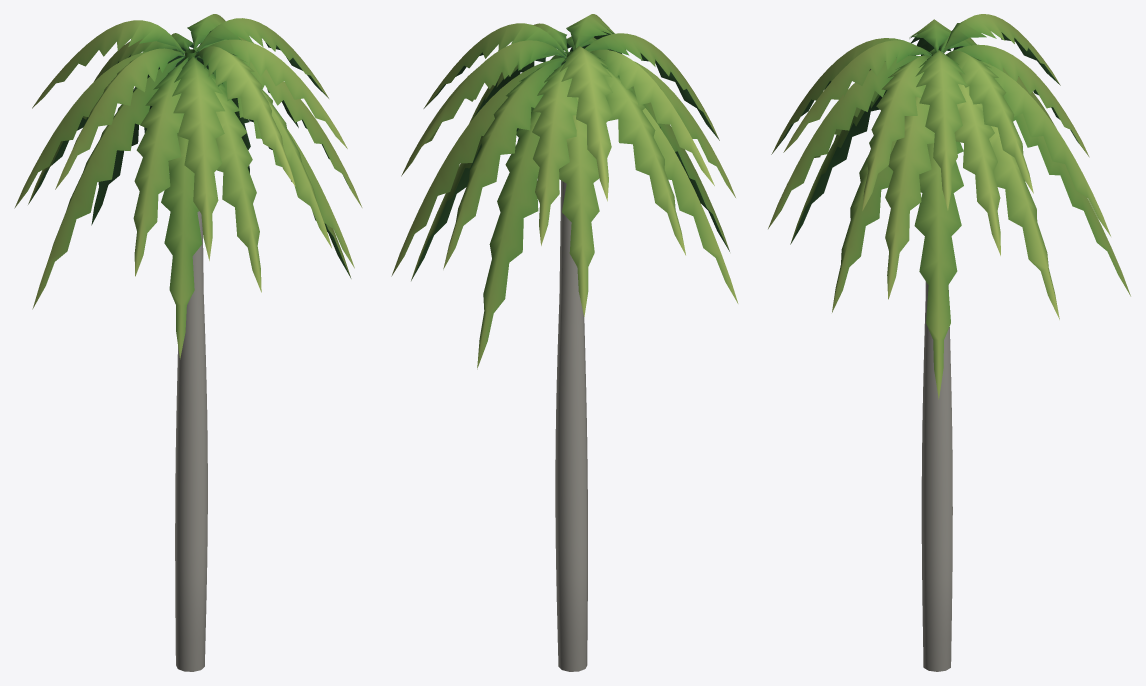
Rendered from PalmRoyal.fbx.
The picture shows the model from 3 angles, left to right: view 1: azimuth 30°, elevation 25°; view 2: azimuth 150°, elevation 25°; view 3: azimuth 270°, elevation 25°; orthographic projection.
Parts seen in each view (by area): view 1: PalmRoyal; view 2: PalmRoyal; view 3: PalmRoyal.
Part boxes in pixels (x1,y1,x2,y2): PalmRoyal: [14, 14, 362, 671]; PalmRoyal: [391, 14, 738, 671]; PalmRoyal: [768, 14, 1130, 671].
Bounding box in the file's own units: 8.76 × 16.48 × 8.54.
